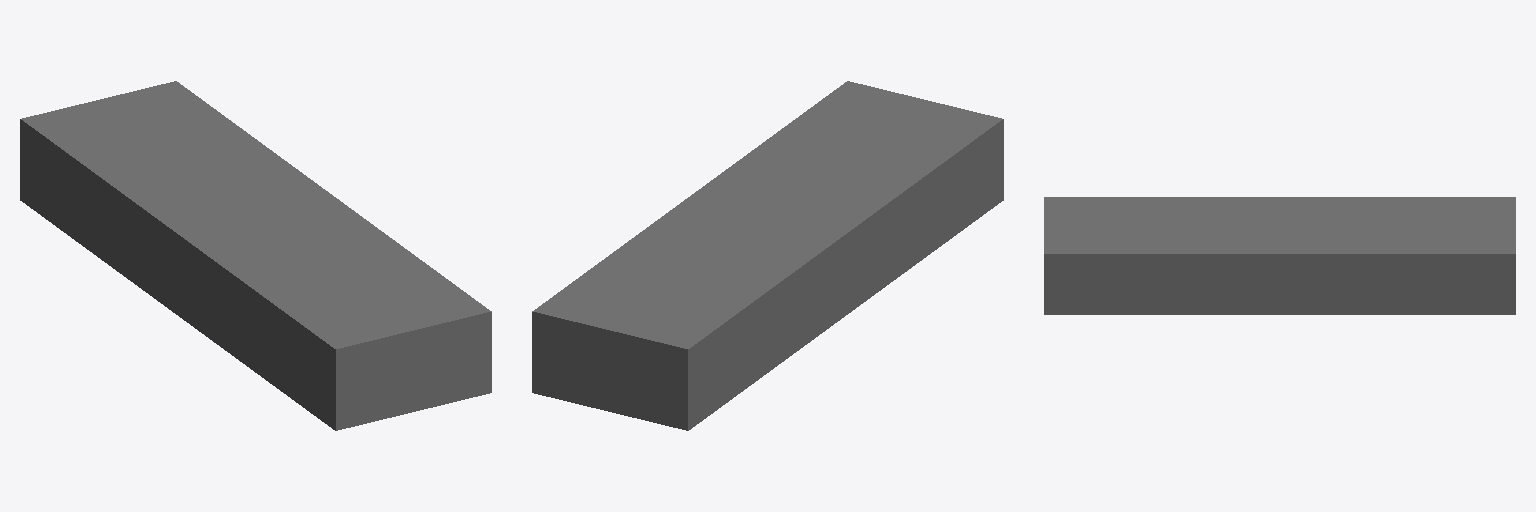
robot.urdf — boxobs:
<?xml version="1.0" ?>
<robot name="boxobs">
  <link name="boxobsLink">
  <!-- <contact>
      <lateral_friction value="1"/>
  </contact> -->
    <inertial>
      <origin rpy="0 0 0" xyz="0 0 0"/>
        <mass value=".0"/>
        <inertia ixx="0" ixy="0" ixz="0" iyy="0" iyz="0" izz="0"/>
    </inertial>
    <visual>
      <origin rpy="0 0 0" xyz="0 0 0"/>
      <geometry>
        <box size="0.2 0.7 0.1" />
      </geometry>
      <material name="grey">
        <color rgba="0.5 0.5 0.5 1"/>
      </material>
    </visual>
    <collision>
      <origin rpy="0 0 0" xyz="0 0 0"/>
      <geometry>
        <box size="0.2 0.7 0.1" />
      </geometry>
    </collision>
  </link>
</robot>

--- Render facts (derived) ---
3 views of the same robot in one strip: view 1: azimuth 30°, elevation 25°; view 2: azimuth 150°, elevation 25°; view 3: azimuth 270°, elevation 25° (orthographic).
Model boxobs with 1 links and 0 joints (none), rooted at boxobsLink, posed every joint at zero.
Links seen in each view (by area): view 1: boxobsLink; view 2: boxobsLink; view 3: boxobsLink.
Link boxes in pixels (<box>): boxobsLink: <box>20,81,491,430</box>; boxobsLink: <box>532,81,1003,430</box>; boxobsLink: <box>1044,197,1515,314</box>.
Bounding box of the posed robot: 0.2 × 0.7 × 0.1 m (x, y, z).
Geometry: primitives only (box / cylinder / sphere), no mesh files.